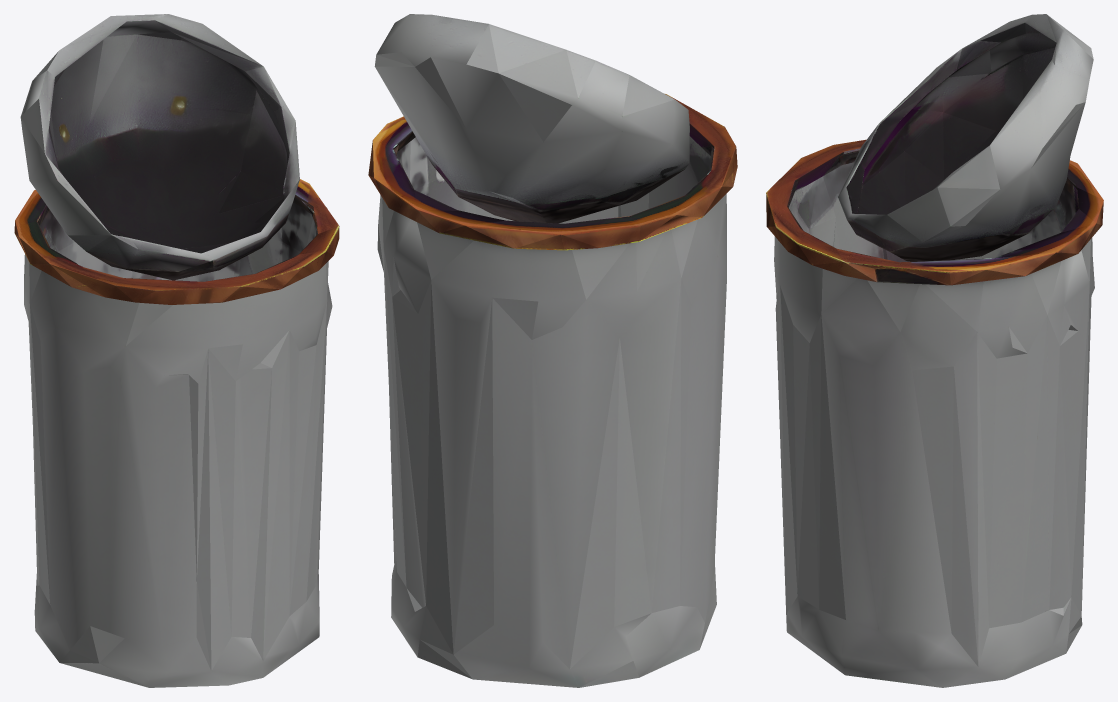
Rendered from PR_PlainWasteBin.fbx.
3 views of the same model, side by side, from view 1: azimuth 30°, elevation 25°; view 2: azimuth 150°, elevation 25°; view 3: azimuth 270°, elevation 25° (orthographic). The views are drawn at different scales.
Visible parts, largest first — view 1: Mesh_0; view 2: Mesh_0; view 3: Mesh_0.
Part boxes in pixels (bbox=[...]): Mesh_0: bbox=[14, 14, 339, 687]; Mesh_0: bbox=[368, 14, 737, 687]; Mesh_0: bbox=[766, 14, 1103, 687].
Bounding box in the file's own units: 96.84 × 190 × 97.88.
1 material, 1 textured.
